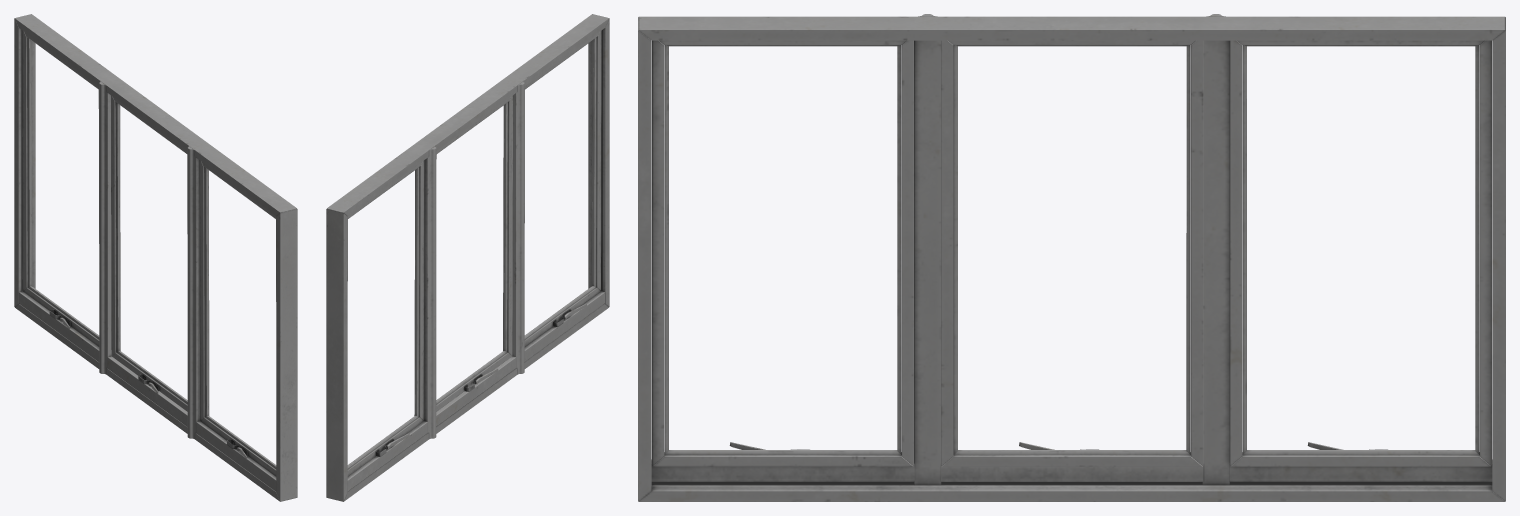
The model's file is SM_Window01b_Main_LOD3.fbx.
3 renders of one model, left to right at view 1: azimuth 30°, elevation 25°; view 2: azimuth 150°, elevation 25°; view 3: azimuth 270°, elevation 25°, orthographic. The views are drawn at different scales.
Visible parts, largest first — view 1: SM_Window01b_Main_LOD3; view 2: SM_Window01b_Main_LOD3; view 3: SM_Window01b_Main_LOD3.
Boxes of the visible parts, x1,y1,x2,y2 form: SM_Window01b_Main_LOD3: (14,14,297,501); SM_Window01b_Main_LOD3: (326,14,609,501); SM_Window01b_Main_LOD3: (638,14,1505,501).
Size of the model in its own units: 14.73 by 180 by 300.
